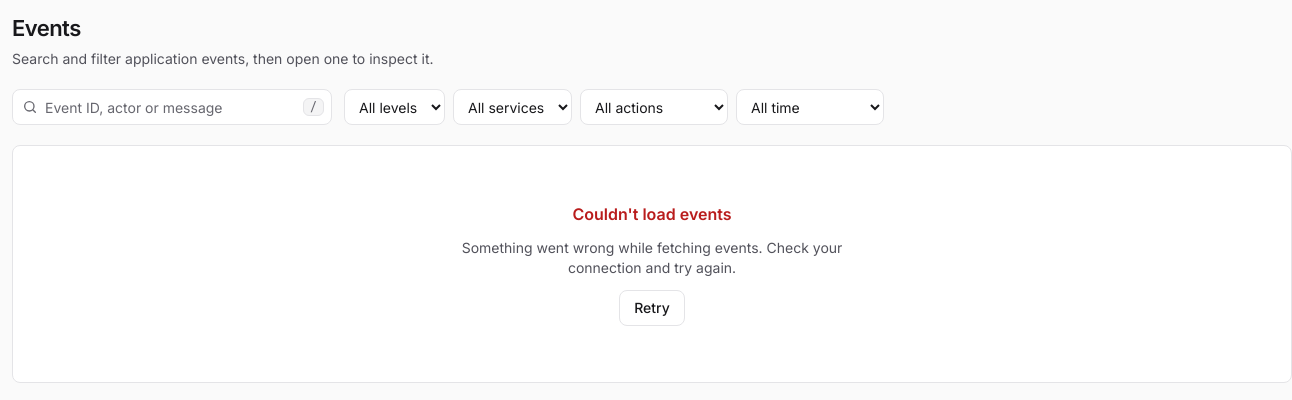
EventExplorer › shows an error state and retries
Click the button "Retry" at (652, 308), box [619,290,685,326]
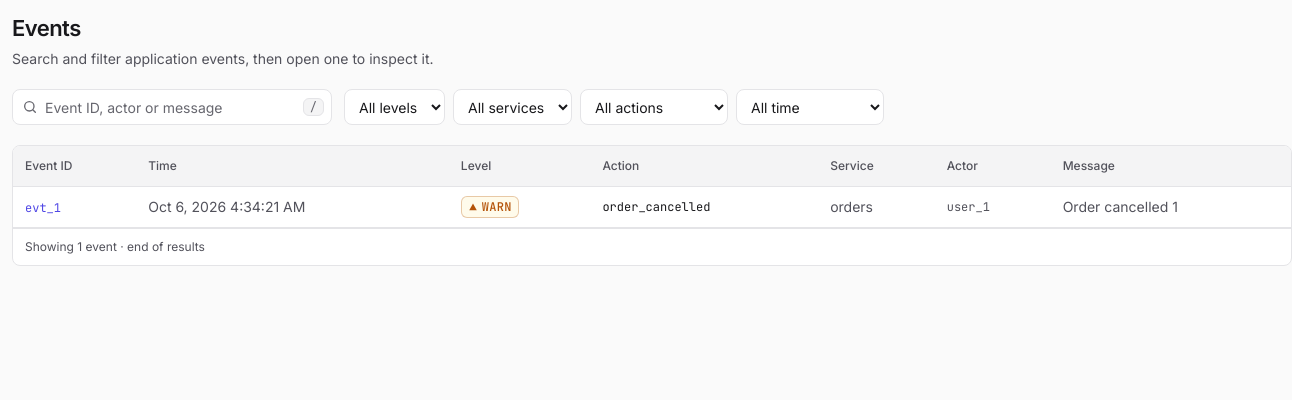
Check: the text "Order cancelled 1" is shown, box [1063,198,1178,215]
